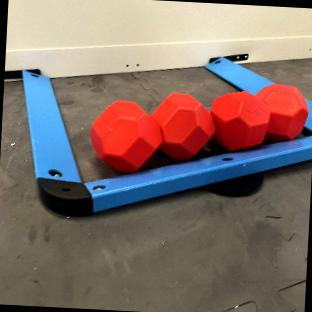V5_RED: (89, 92, 211, 172), (210, 84, 307, 149)
